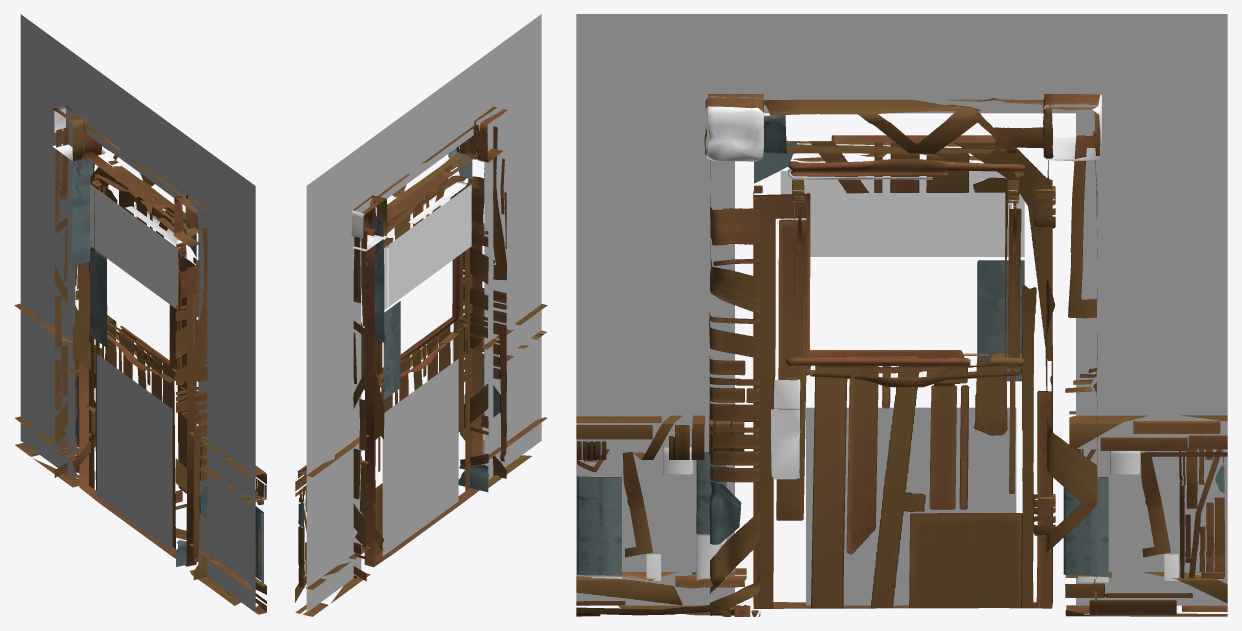
Rendered from Modular_Door.fbx.
The picture shows the model from 3 angles, left to right: view 1: azimuth 30°, elevation 25°; view 2: azimuth 150°, elevation 25°; view 3: azimuth 270°, elevation 25°; orthographic projection. The views are drawn at different scales.
Visible parts, largest first — view 1: door_modular.001, door_modular.003, door_modular.002; view 2: door_modular.001, door_modular.003, door_modular.002; view 3: door_modular.001, door_modular.003, door_modular.002.
Part boxes in pixels (x1,y1,x2,y2): door_modular.001: (20, 14, 255, 612); door_modular.003: (78, 151, 196, 566); door_modular.002: (14, 105, 266, 614); door_modular.001: (306, 14, 541, 612); door_modular.003: (361, 152, 482, 567); door_modular.002: (295, 106, 547, 616); door_modular.001: (576, 14, 1227, 605); door_modular.003: (753, 135, 1055, 608); door_modular.002: (576, 94, 1227, 616).
Size of the model in its own units: 43.92 by 478 by 474.
